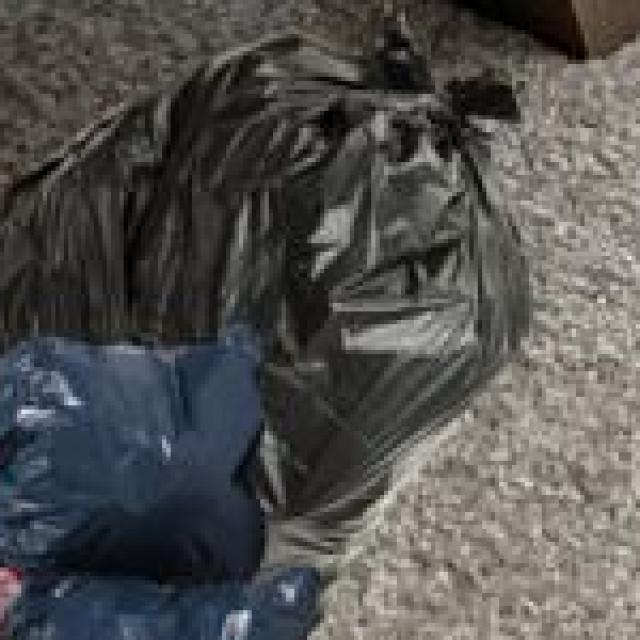Trashbag: (120, 36, 507, 387), (0, 318, 261, 555), (53, 538, 349, 640)
